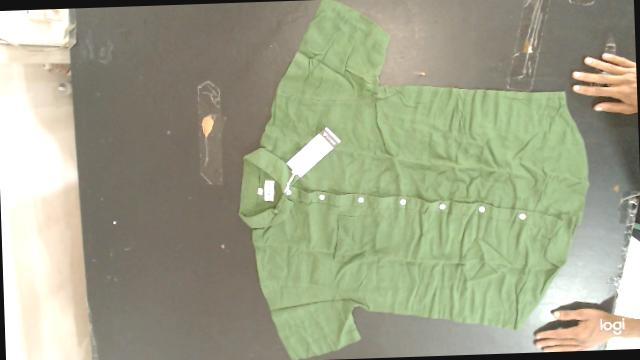new-garment: (239, 0, 588, 359)
